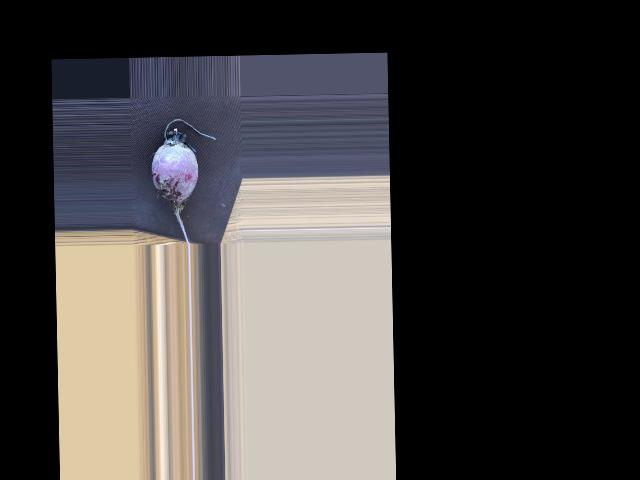beet: (149, 118, 218, 246)
